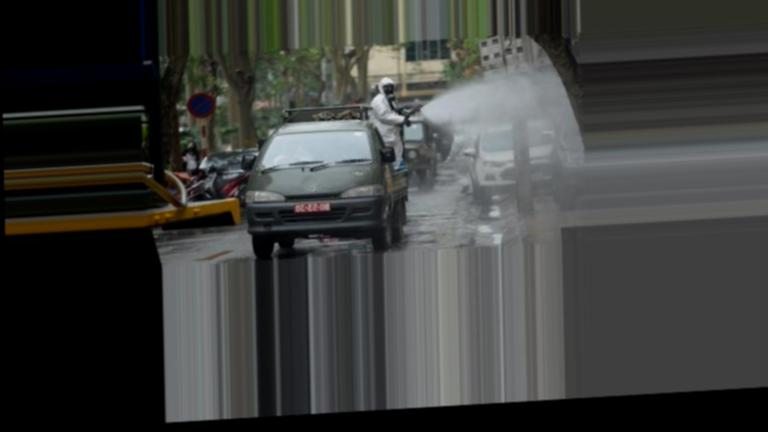License_Plate: (292, 200, 332, 217)
